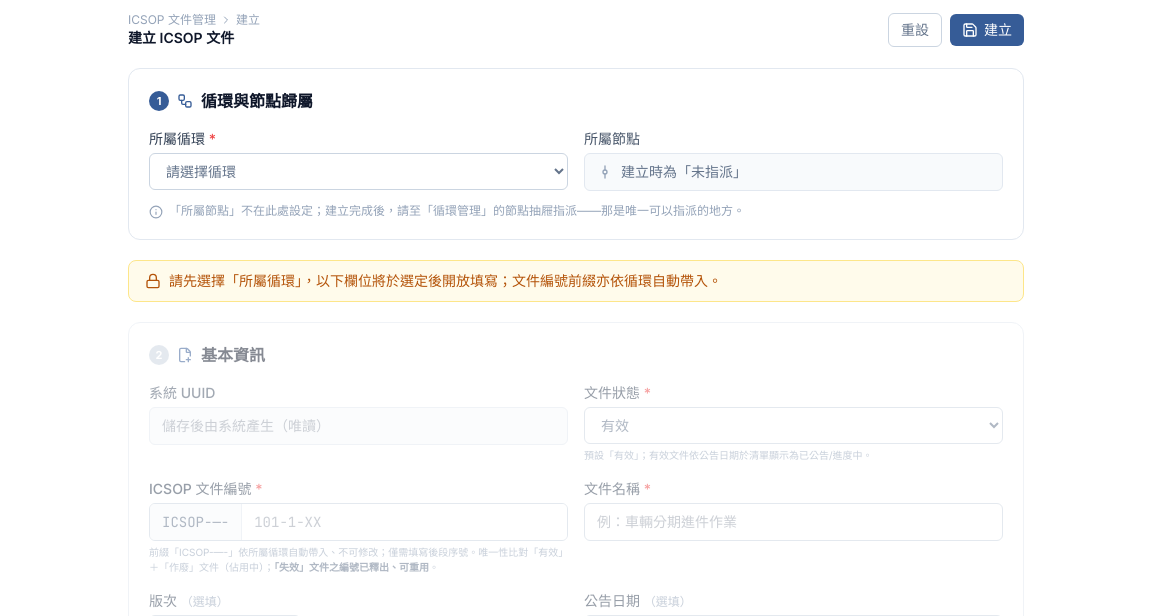
Test: DocumentCreatePage — F010 建立文件（移植 prototype 14） › 編號重複（後端 409）→ 顯示提示
The image size is (1152, 616).
Select "銷售及收款循環" in the dropdown named "所屬循環" at [358, 172], box [149,153,568,190]
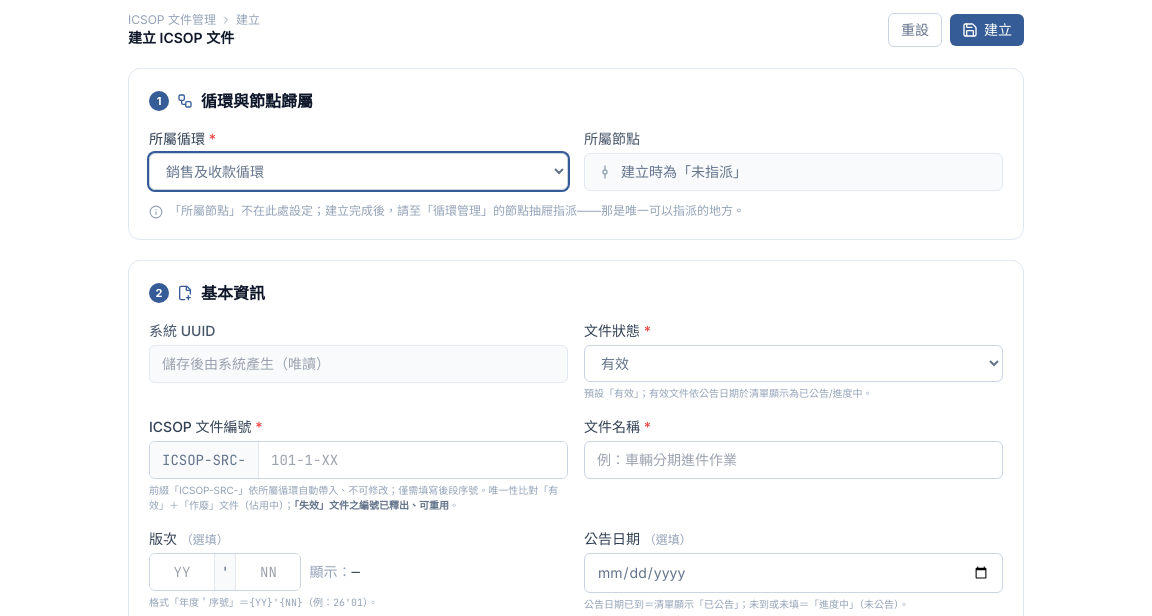
Type "999-9-99" into the field labelled "ICSOP 文件編號 *".
click(413, 460); type("999-9-99")  # box [259,442,567,478]
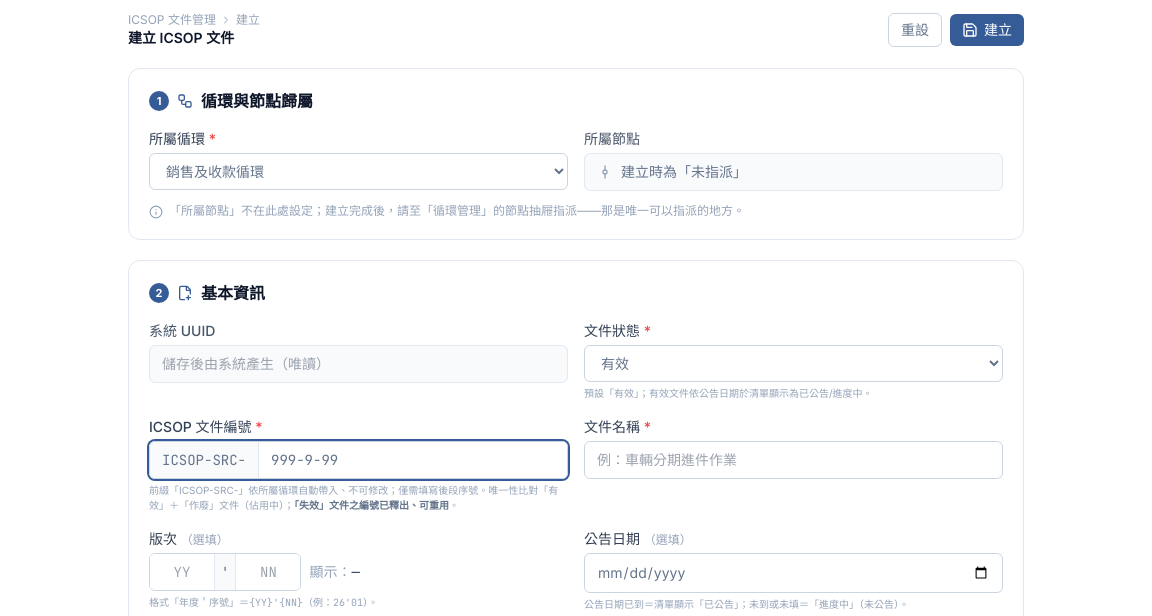
Type "名" into the field labelled "文件名稱 *".
click(794, 460); type("名")  # box [584,441,1003,479]
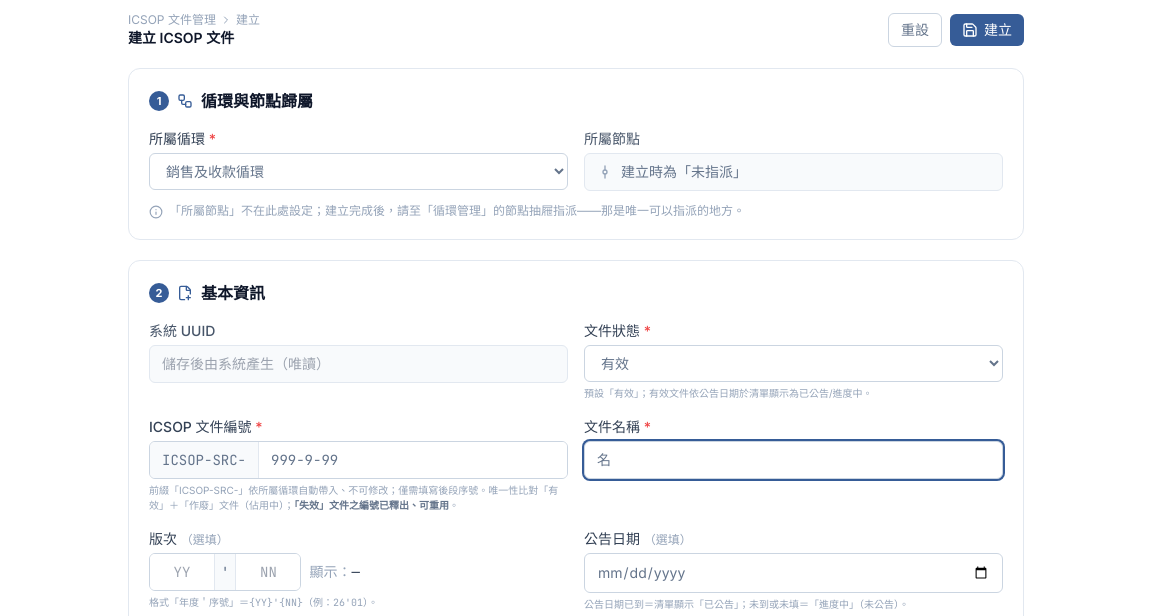
Click the button "建立".
click(987, 30)  # box [950,14,1024,46]
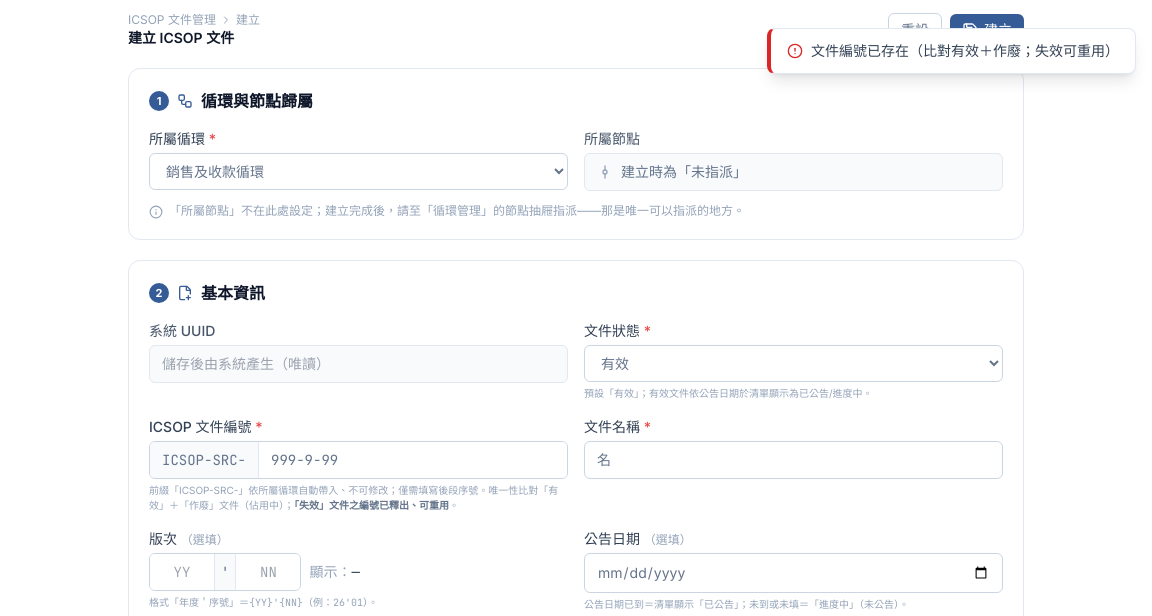
Expected: the text "文件編號已存在（比對有效＋作廢；失效可重用）" is shown, [811,41,1119,61]
